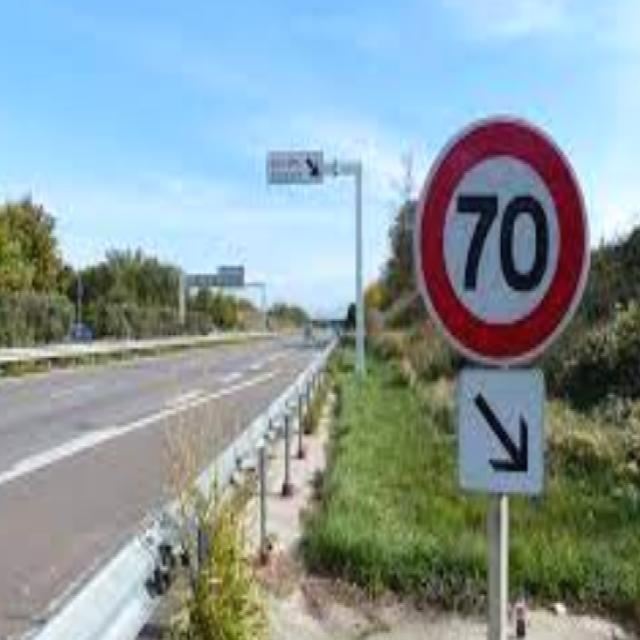speed_70: (415, 112, 591, 366)
